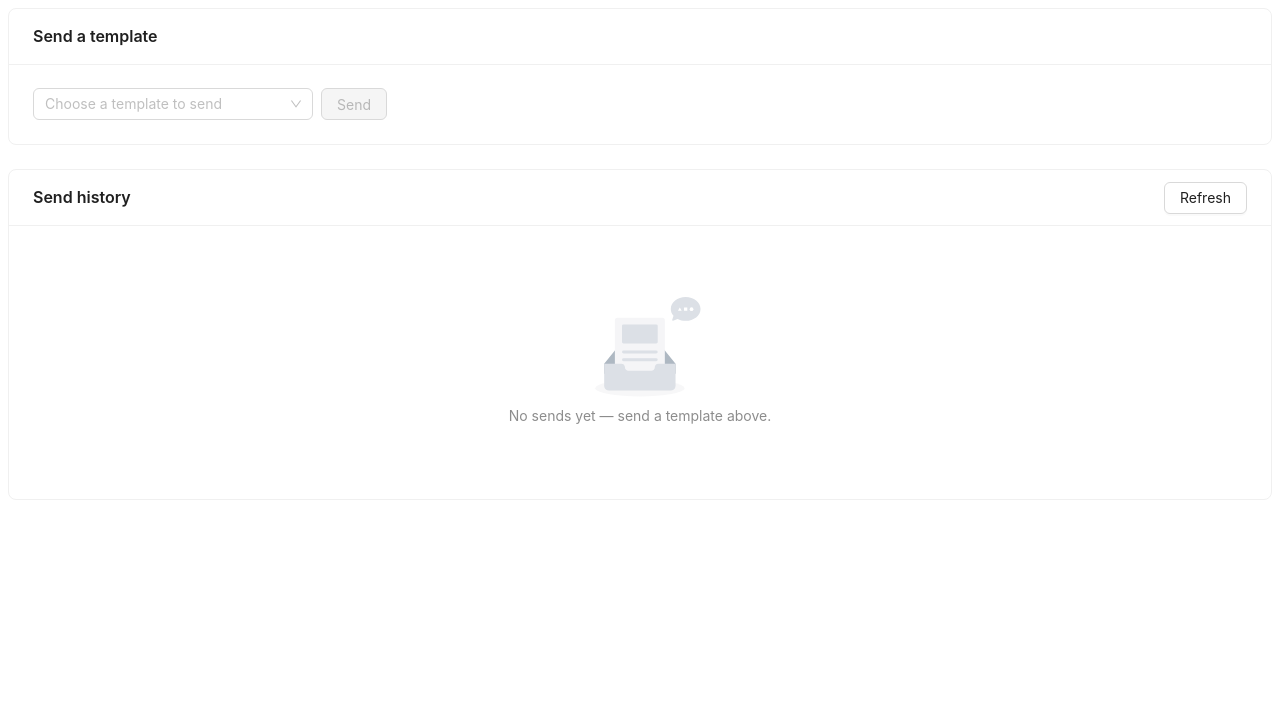
SendHistoryPage › surfaces an unsendable 400 and adds no history entry
Check: the text "No sends yet — send a template above." is shown, box [509,407,771,424]
Click the dropdown at {"x": 164, "y": 104}, box [45,89,283,119]
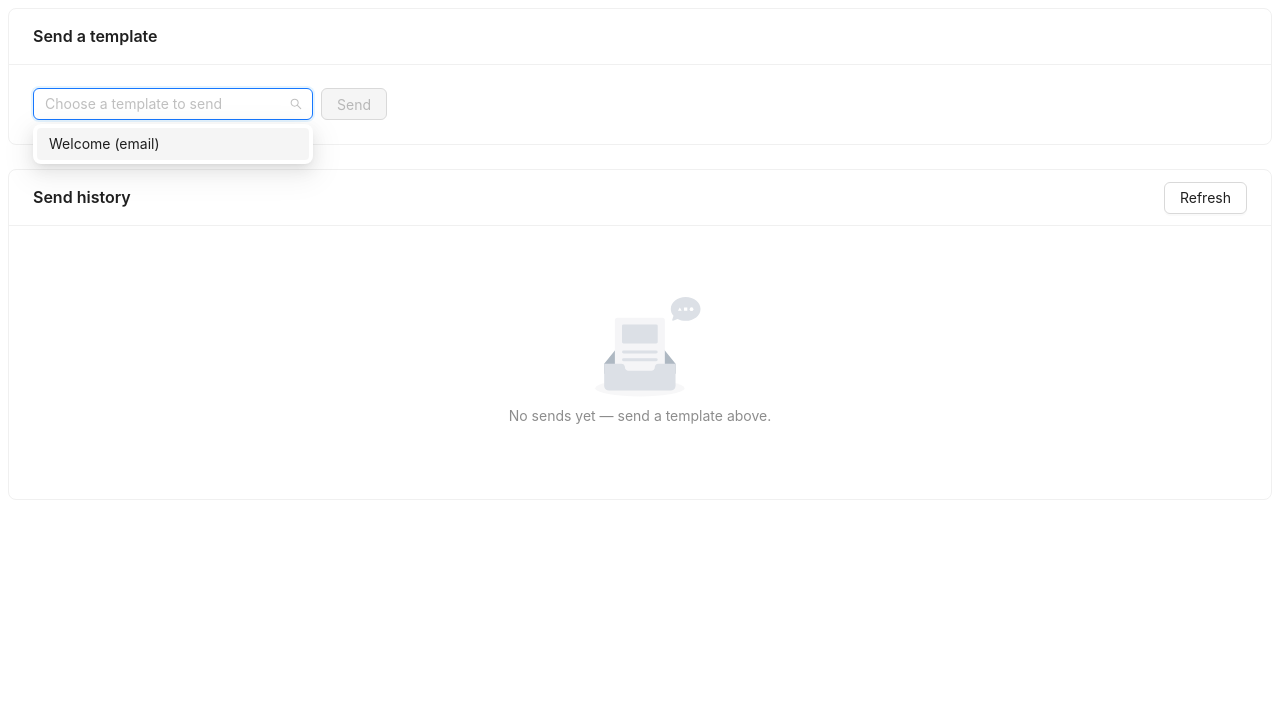
Click the text "Welcome (email)" at {"x": 104, "y": 144}, box [49,135,160,152]
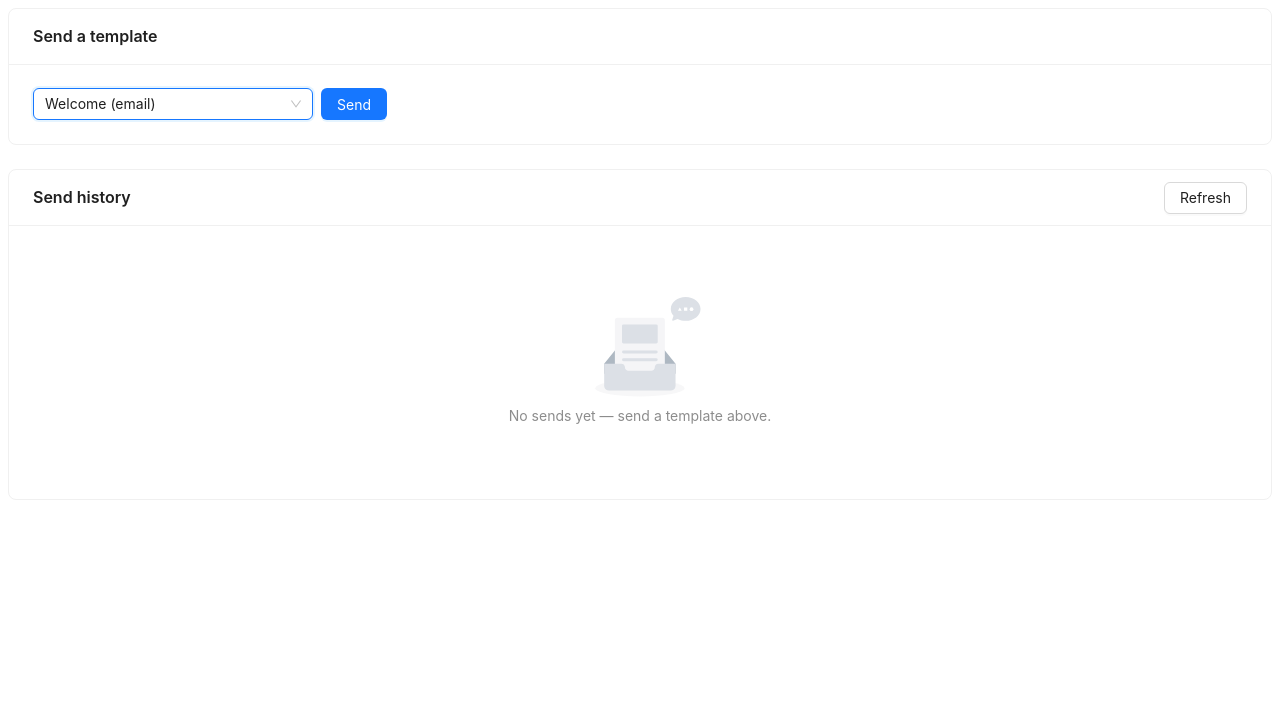
Click the button "Send" at {"x": 354, "y": 104}, box [321,88,387,120]
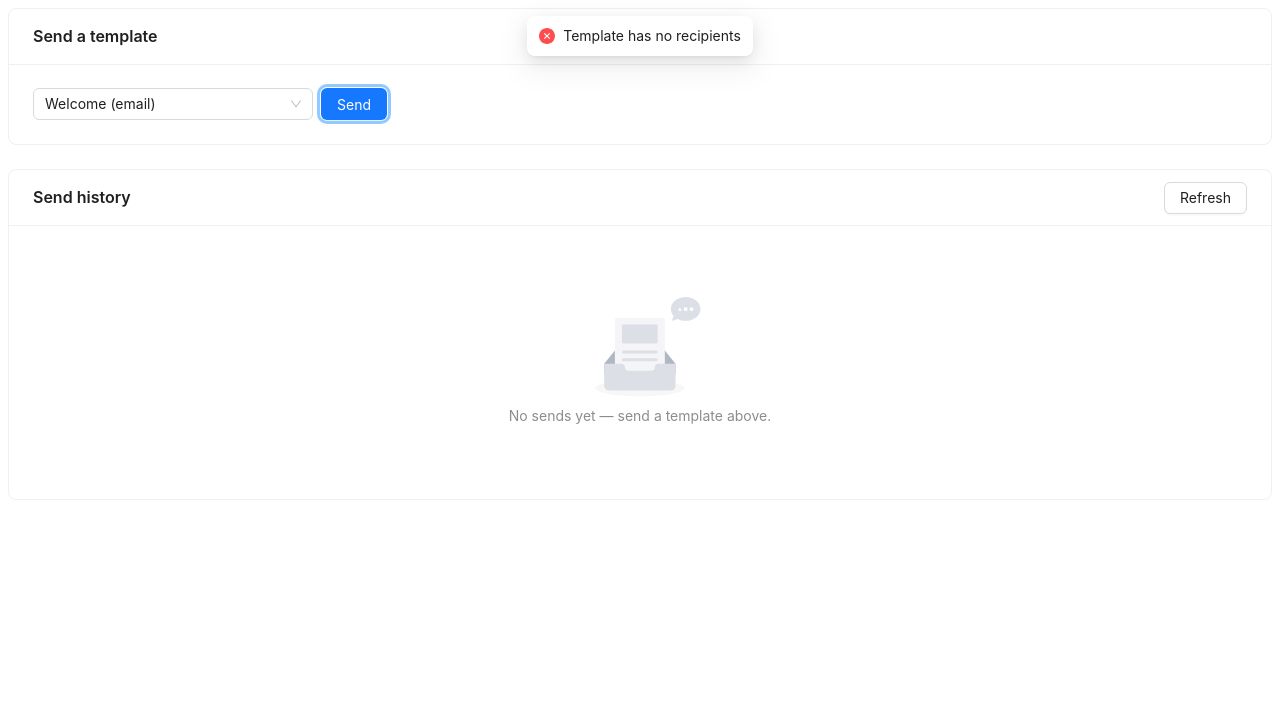
Check: the text "No sends yet — send a template above." is shown, box [509,407,771,424]
Check: the text "Template has no recipients" is shown, box [563,25,741,47]
